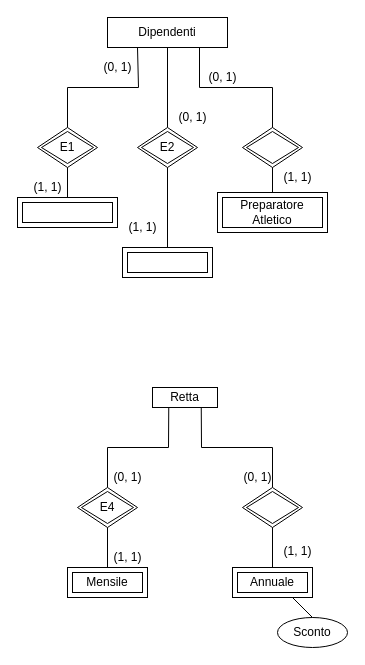
Some shapes in this 365 by 665 pixel diagram are drawn without their labels. The box of each missing label's shape, as (x1, y1, x2, y2) in pixels:
Allenatore: (122, 246, 212, 278)
E3: (242, 126, 302, 168)
E5: (242, 486, 302, 528)
Fisioterapista: (16, 196, 118, 228)
